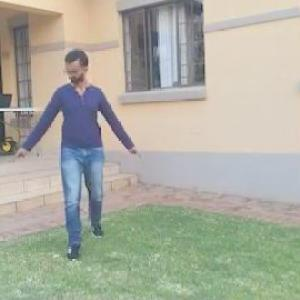land: (14, 44, 142, 256)
